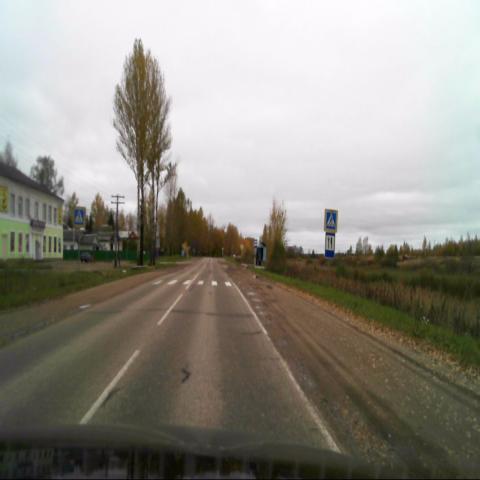7_7: (324, 233, 335, 258)
